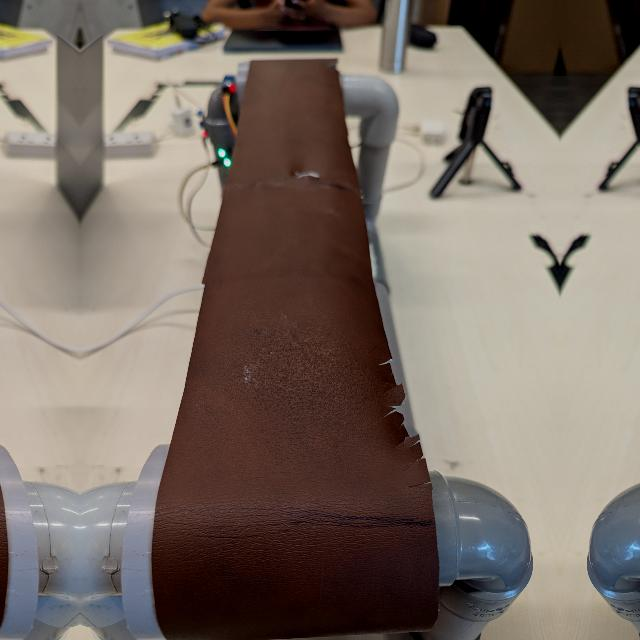edge_damage: (363, 336, 437, 482)
joint_damage: (289, 163, 324, 188)
